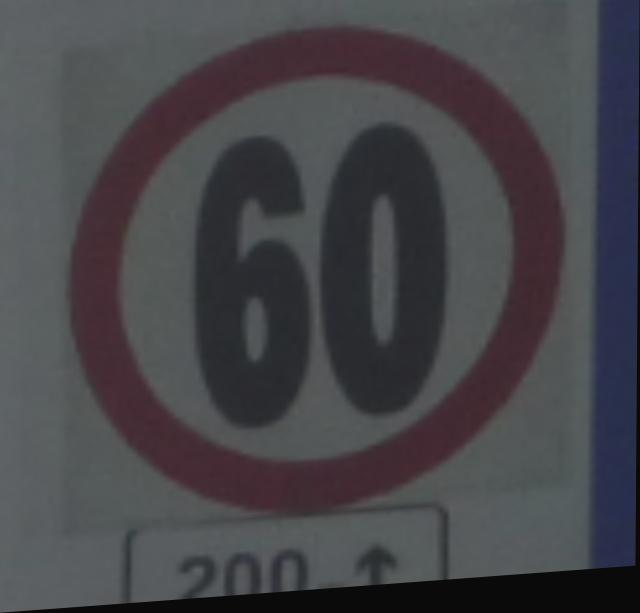limit60: (56, 4, 577, 537)
